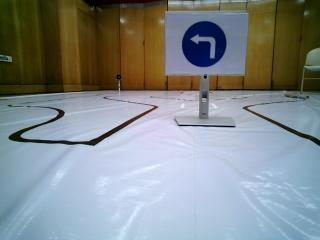left: (165, 16, 246, 68)
